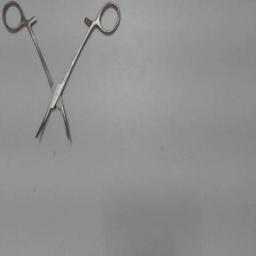Crile Artery Forceps: (0, 0, 126, 154)
